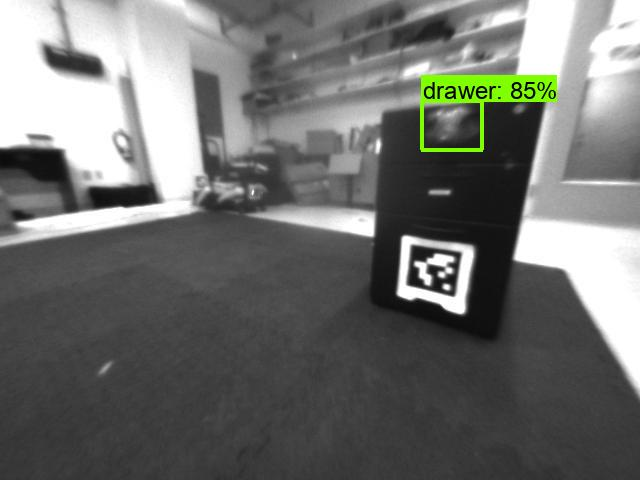drawer: (422, 107, 478, 144)
